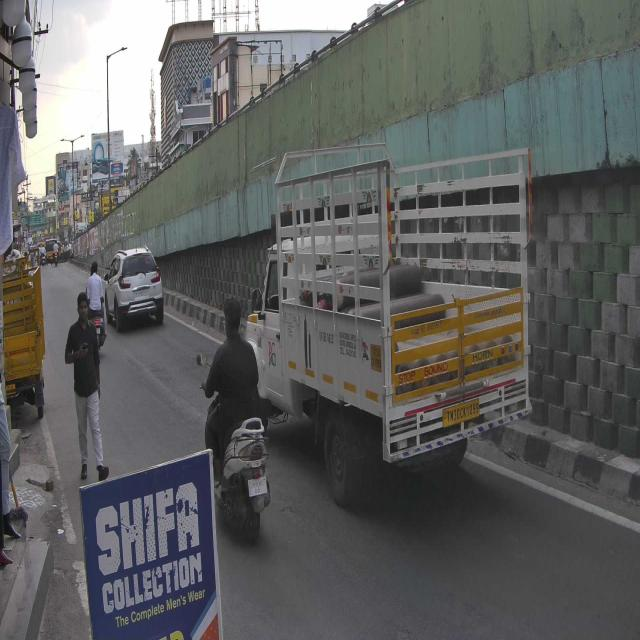single_rider: (196, 291, 276, 544)
